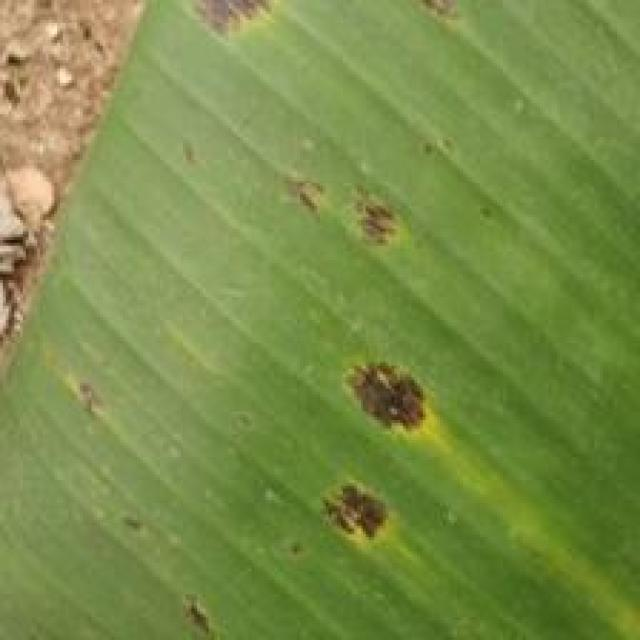Downey_mildrew: (227, 127, 450, 578), (33, 352, 275, 640), (174, 0, 477, 57)
